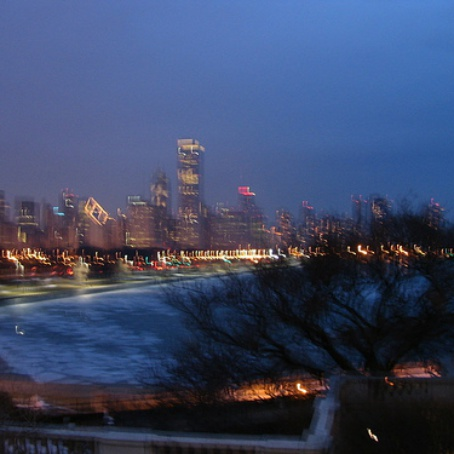building: (177, 138, 208, 245), (122, 203, 158, 248), (209, 211, 249, 247), (146, 166, 170, 219), (82, 193, 106, 246), (55, 188, 79, 241), (13, 193, 37, 246), (243, 189, 267, 242)
sky: (4, 1, 454, 178)
tree: (187, 215, 454, 454)
